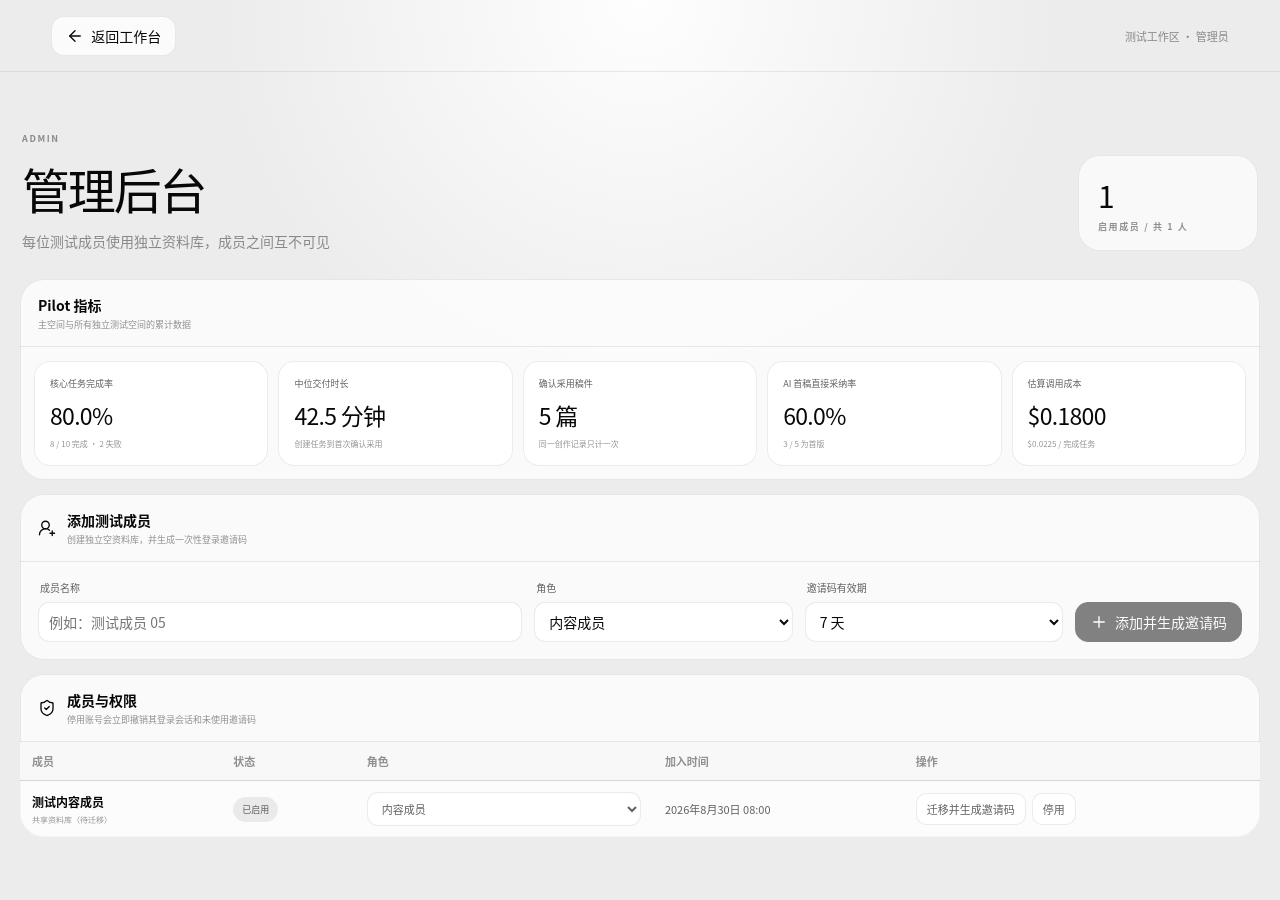
Scenario: 管理后台 › 迁移共享成员后显示新邀请码和独立资料库
Click the button "迁移并生成邀请码": (971, 809) [916,793,1026,825]
(page scrolled)
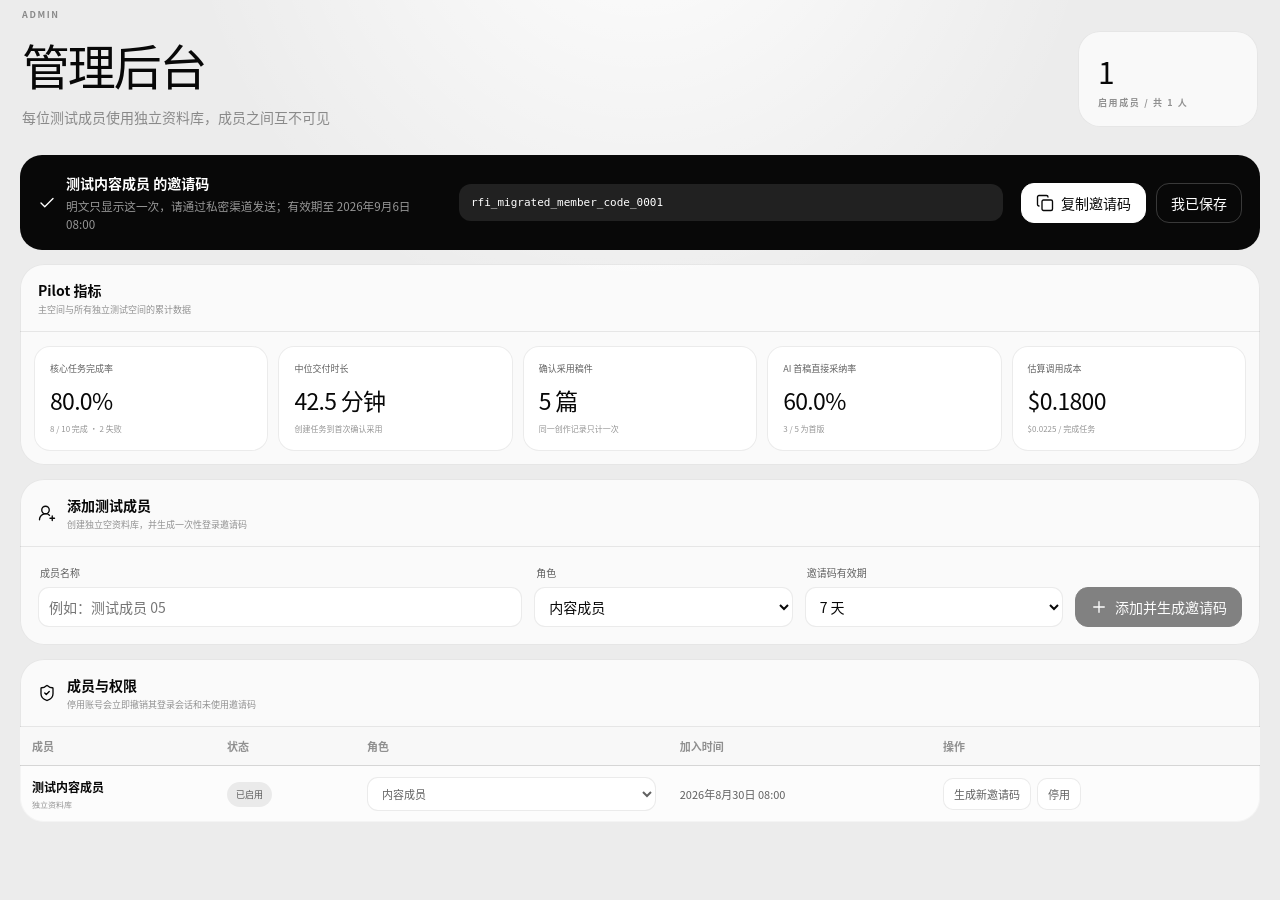
Expected: the text "rfi_migrated_member_code_0001" is shown, [459,184,1003,221]
Expected: the text "独立资料库" is shown, [32,801,72,810]
